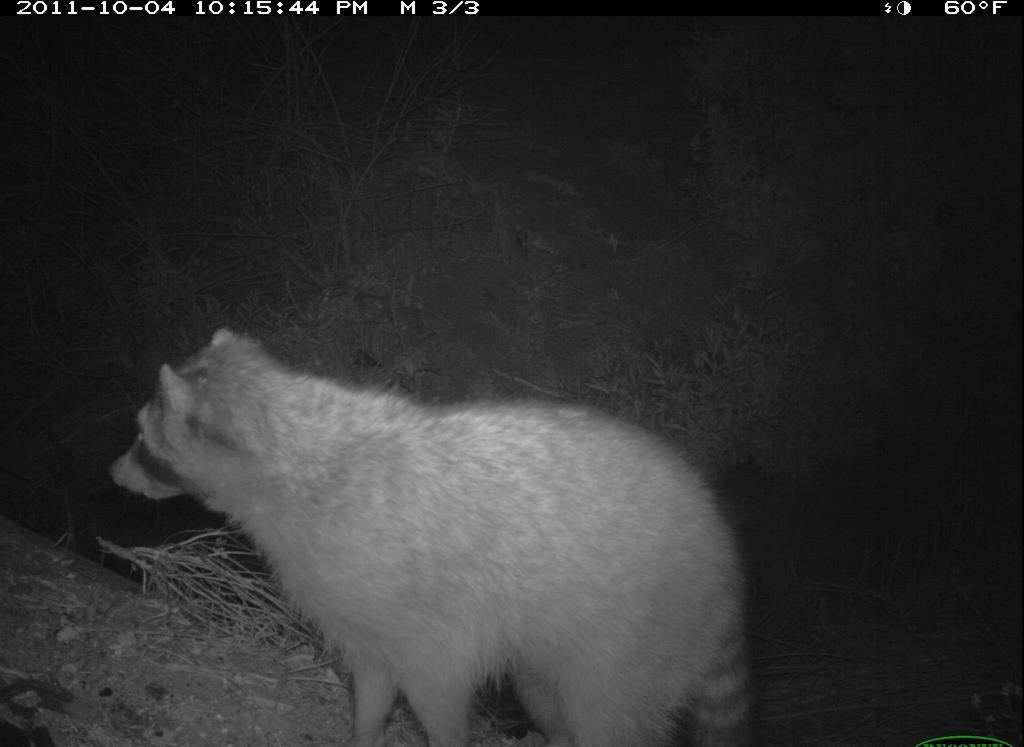raccoon: (102, 313, 774, 743)
